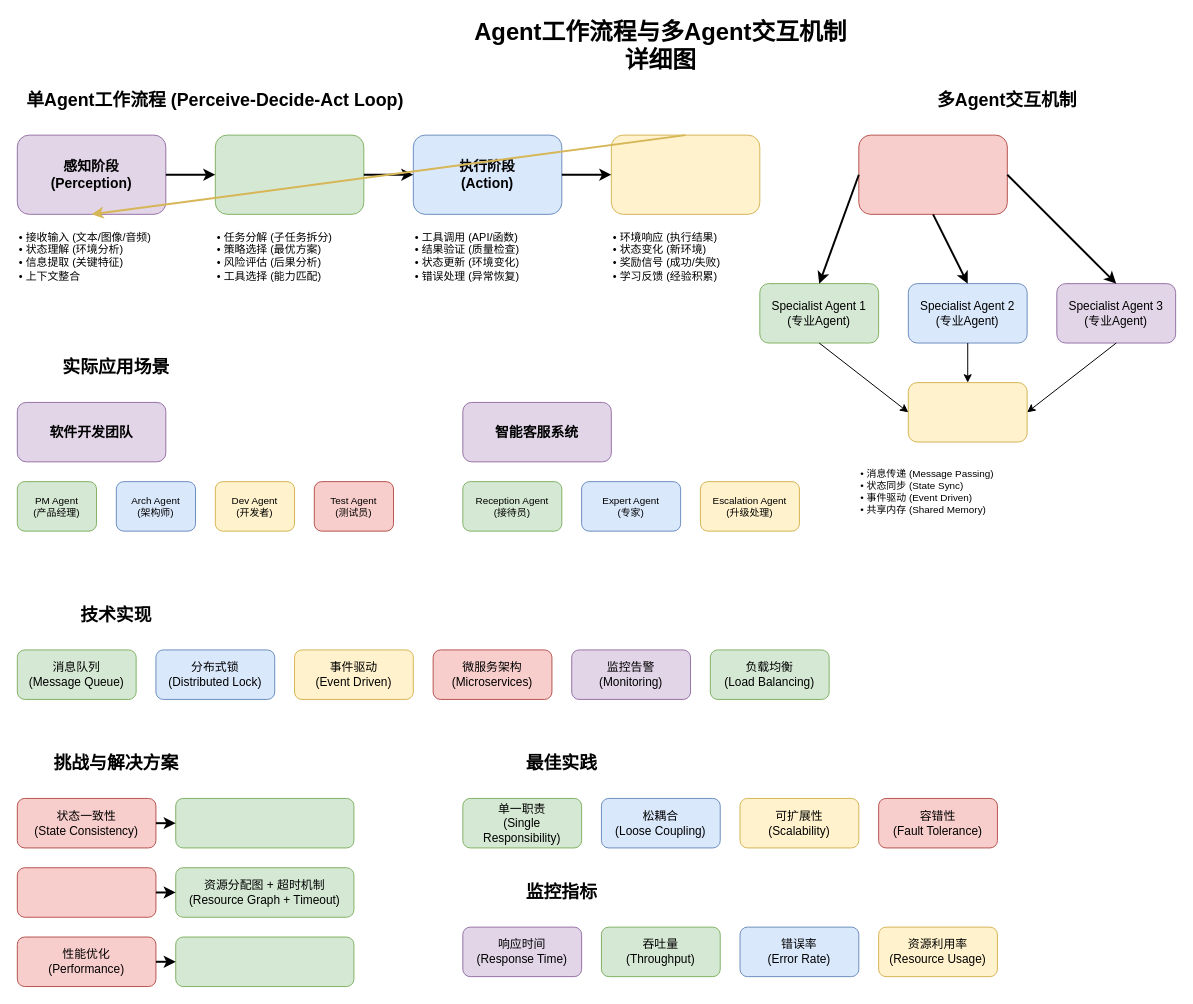
Image size: 1193x1004. Some labels were removed from this diagram. The centre of each missing label's shape, as x and y in pixels:
Coordinator Agent (协调者): [932,174]
决策阶段 (Decision): [289,174]
分布式锁 + 事务管理 (Distributed Lock + Transaction): [264,822]
异步处理 + 连接池 (Async + Connection Pool): [264,961]
死锁避免 (Deadlock Prevention): [86,892]
环境反馈 (Environment): [685,174]
通信机制 (Communication): [967,412]
